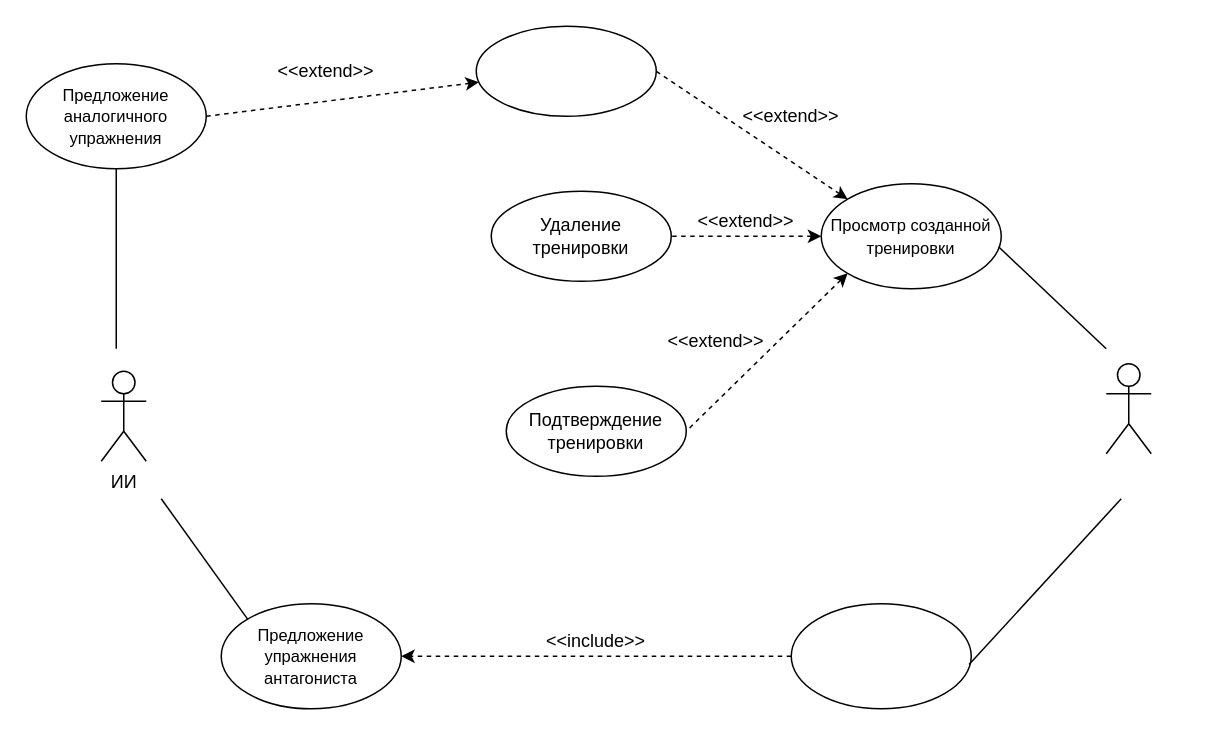
Some shapes in this 1214 by 735 pixel diagram are drawn without their labels. Each missing label, with the box of its shape:
Пользователь: (1105, 362, 1151, 454)
Редактирование тренировки: (475, 25, 656, 116)
Создание суперсета: (790, 602, 971, 709)
